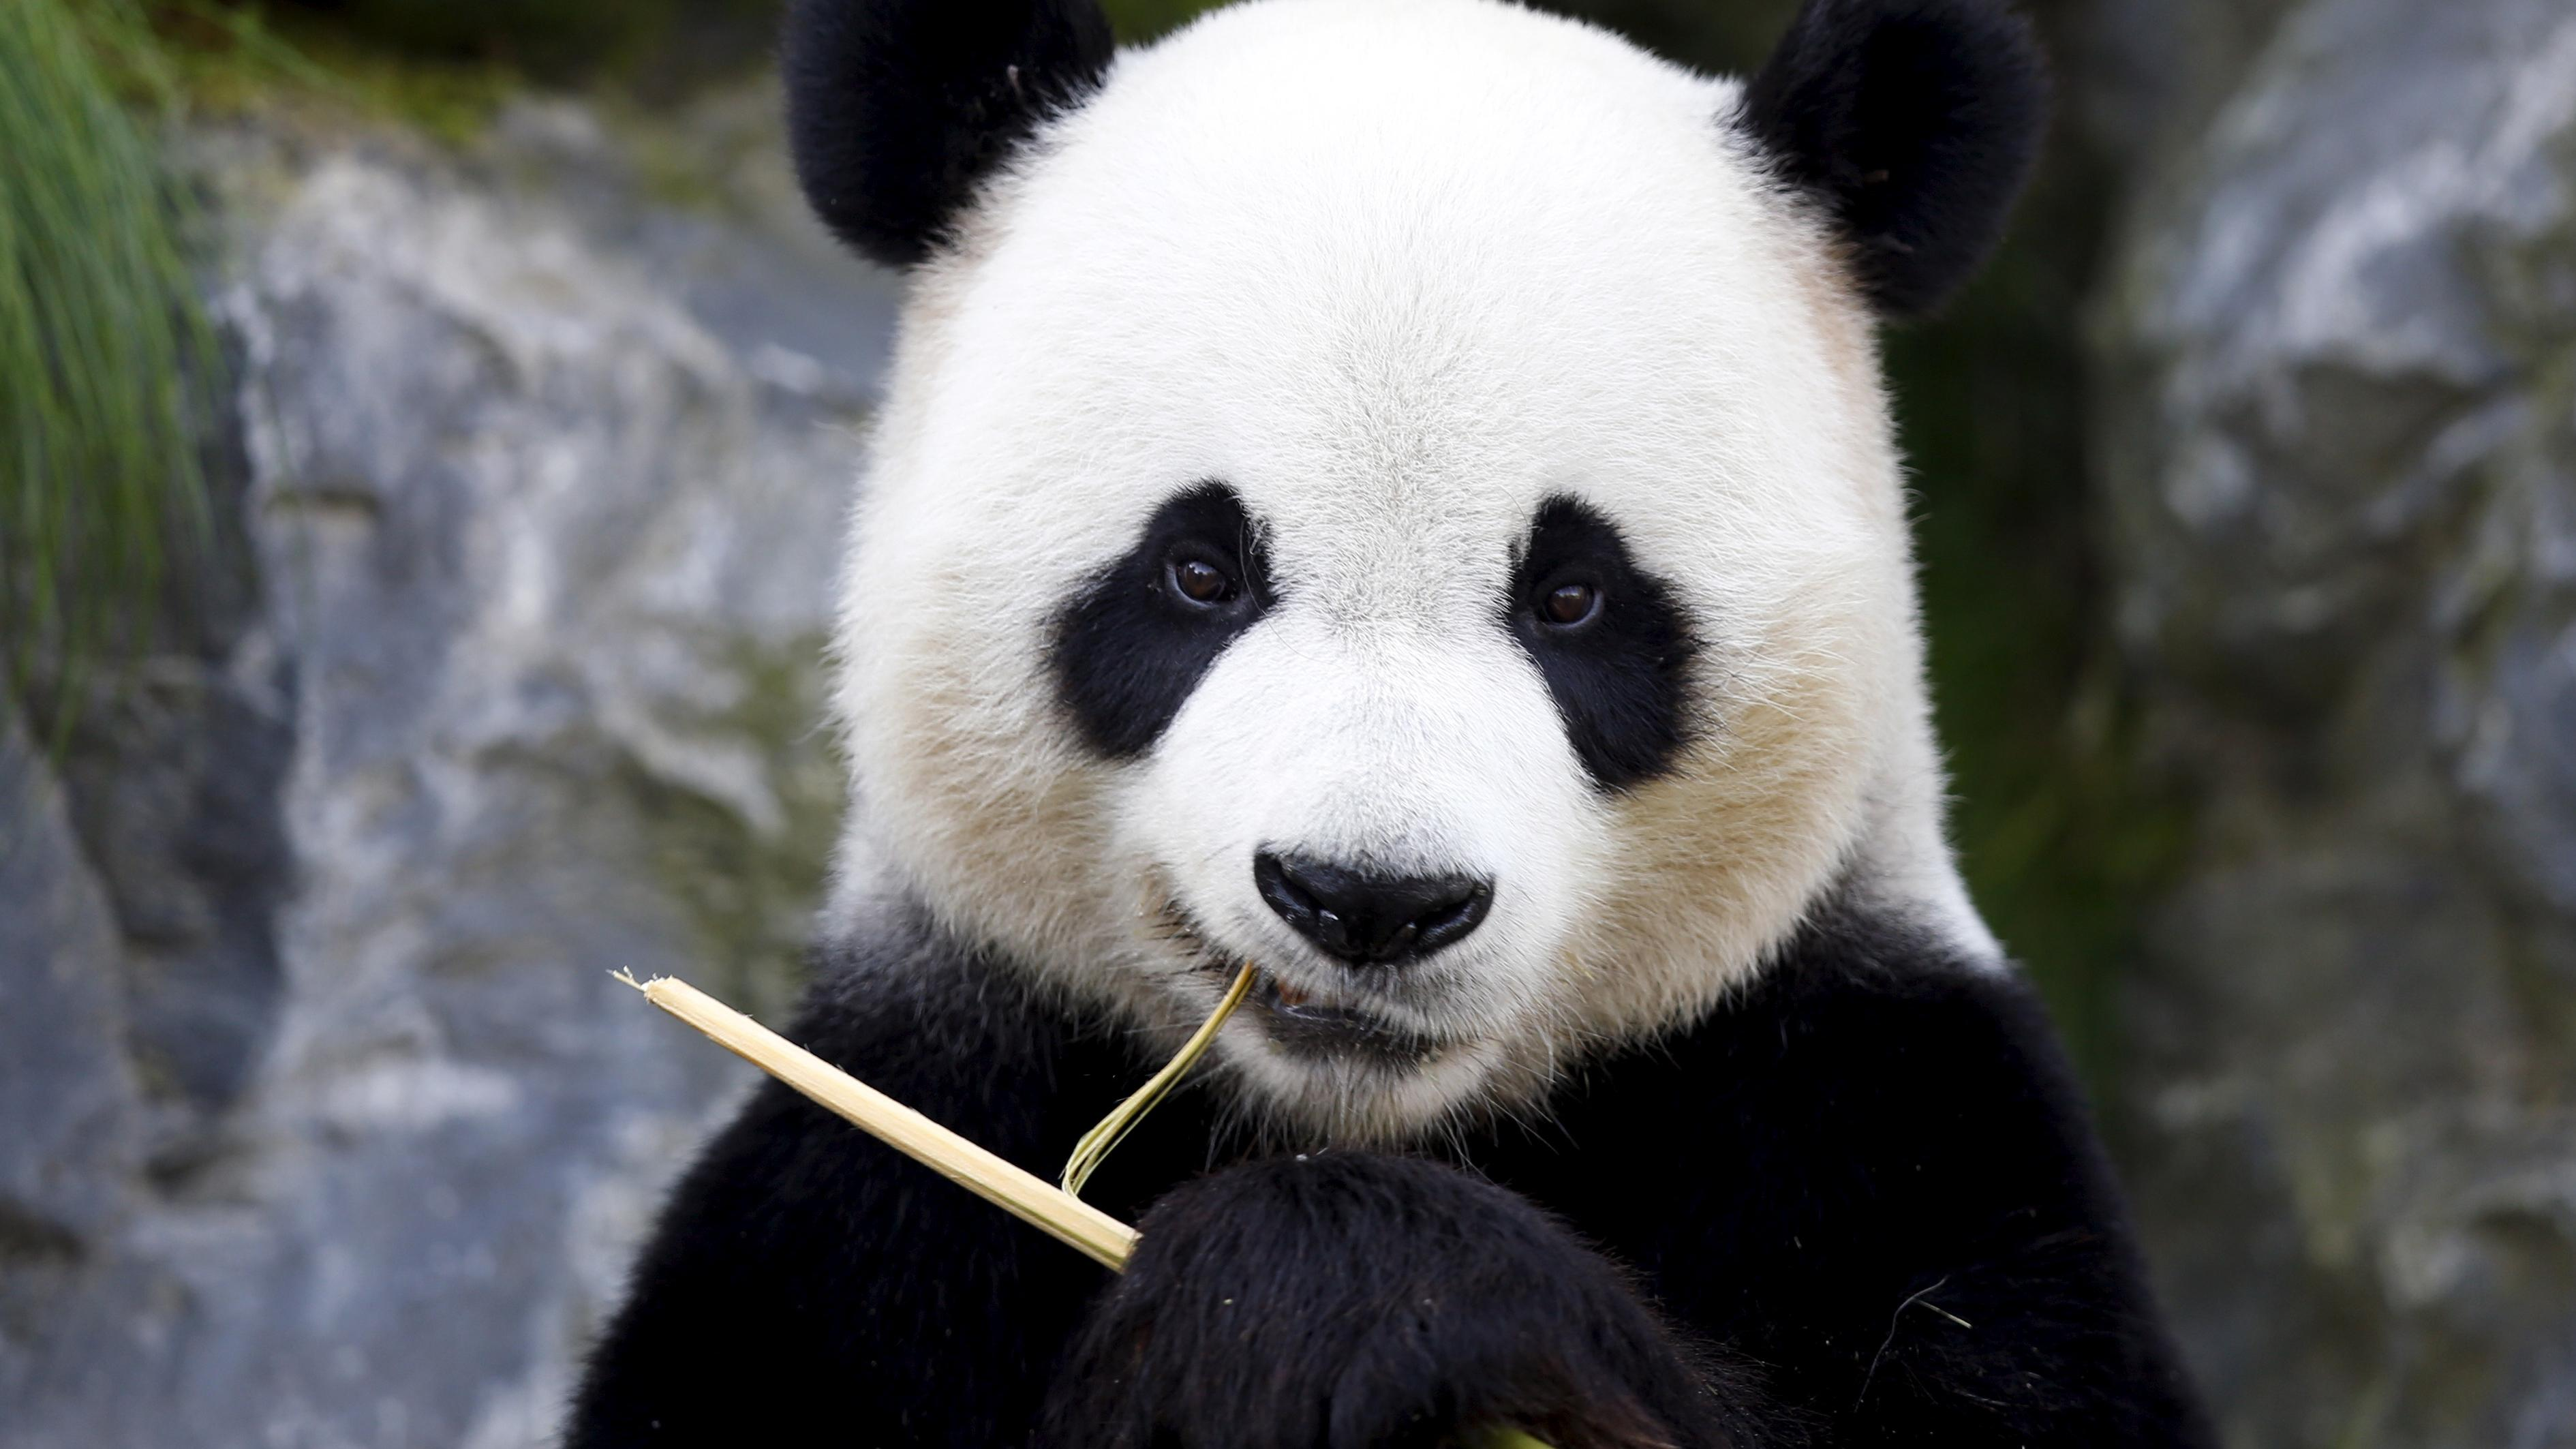panda: (602, 16, 2252, 1435)
